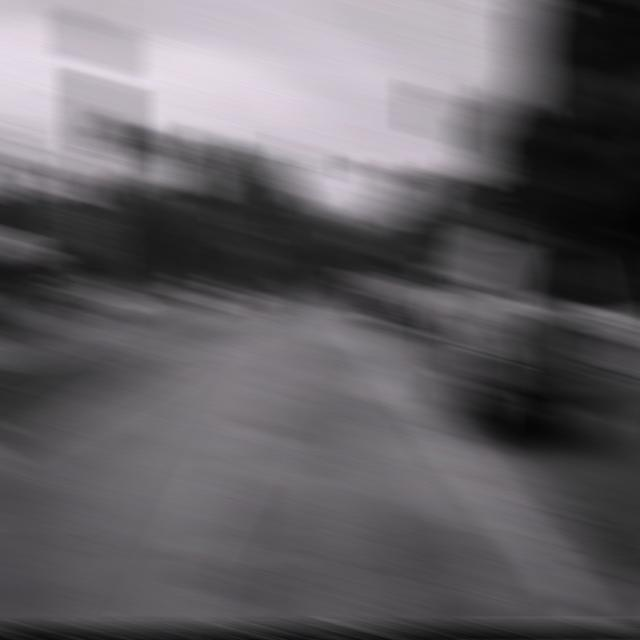noLeftTurn: (72, 157, 121, 214)
